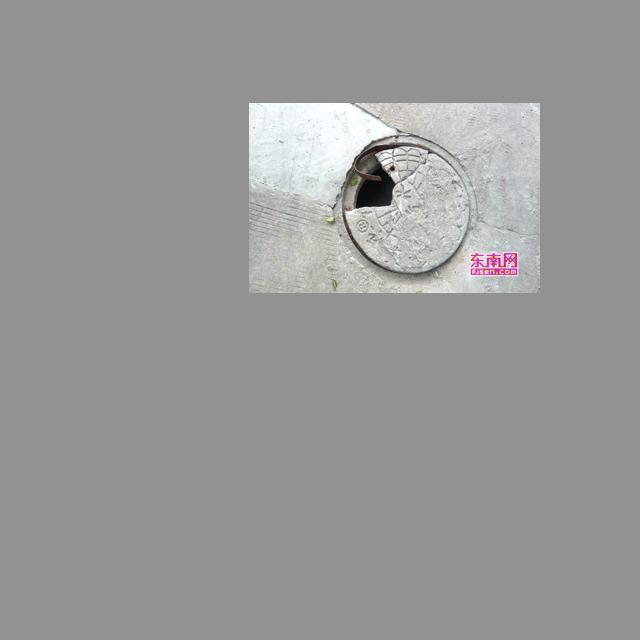broke: (328, 128, 483, 287)
